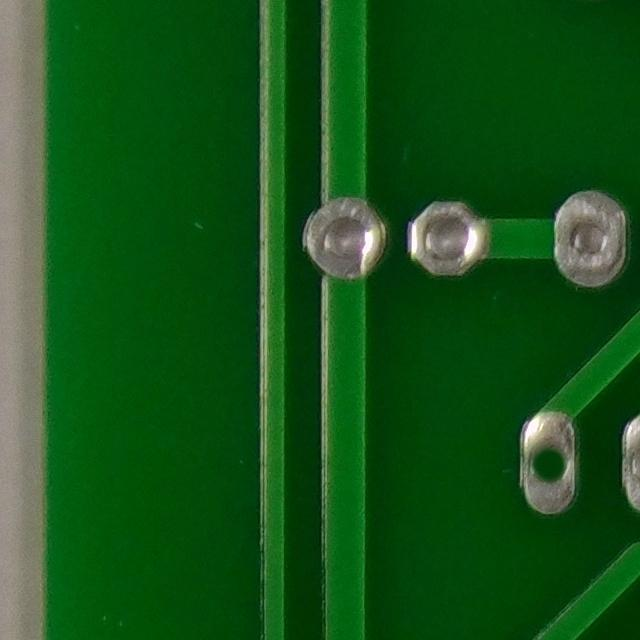missing_hole: (512, 422, 591, 499)
